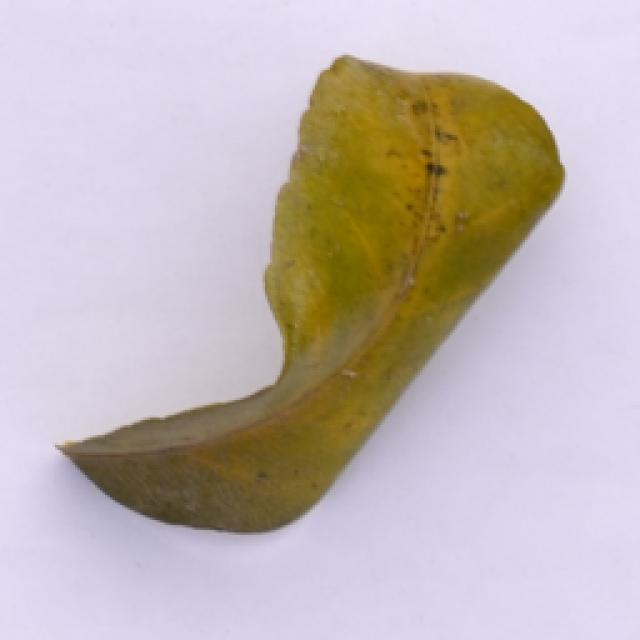blackspot: (41, 53, 579, 549)
